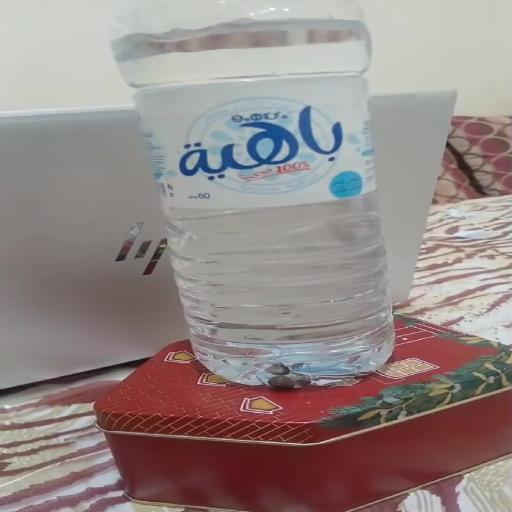bouteille conformite: (120, 4, 425, 397)
